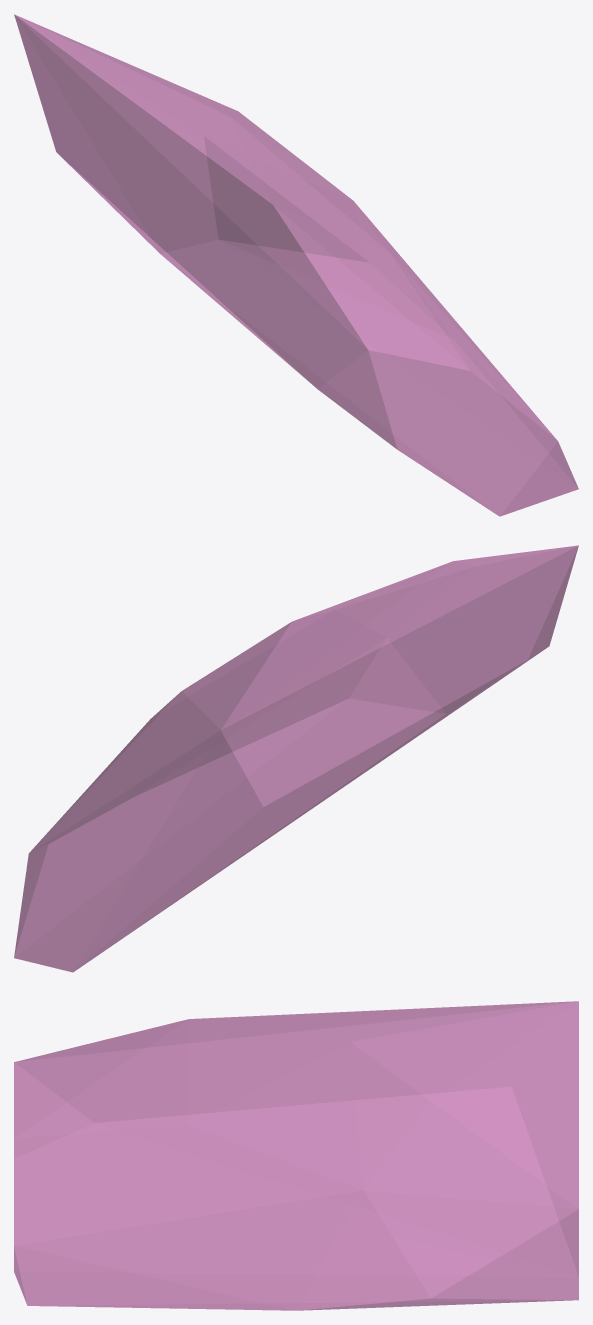
3 views of the same model, one above another, from view 1: azimuth 30°, elevation 25°; view 2: azimuth 150°, elevation 25°; view 3: azimuth 270°, elevation 25° (orthographic). The views are drawn at different scales.
Visible parts, largest first — view 1: Shape_IndexedFaceSet.043_Shape_IndexedFaceSet.8642; view 2: Shape_IndexedFaceSet.043_Shape_IndexedFaceSet.8642; view 3: Shape_IndexedFaceSet.043_Shape_IndexedFaceSet.8642.
Boxes of the visible parts, x1,y1,x2,y2 form: Shape_IndexedFaceSet.043_Shape_IndexedFaceSet.8642: [14, 14, 578, 516]; Shape_IndexedFaceSet.043_Shape_IndexedFaceSet.8642: [14, 545, 578, 972]; Shape_IndexedFaceSet.043_Shape_IndexedFaceSet.8642: [14, 1001, 578, 1310].
Bounding box in the file's own units: 0.0901 × 0.0902 × 0.2104.
